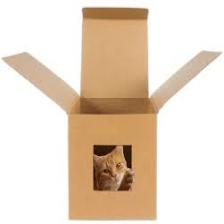cardboard: (20, 9, 192, 214)
